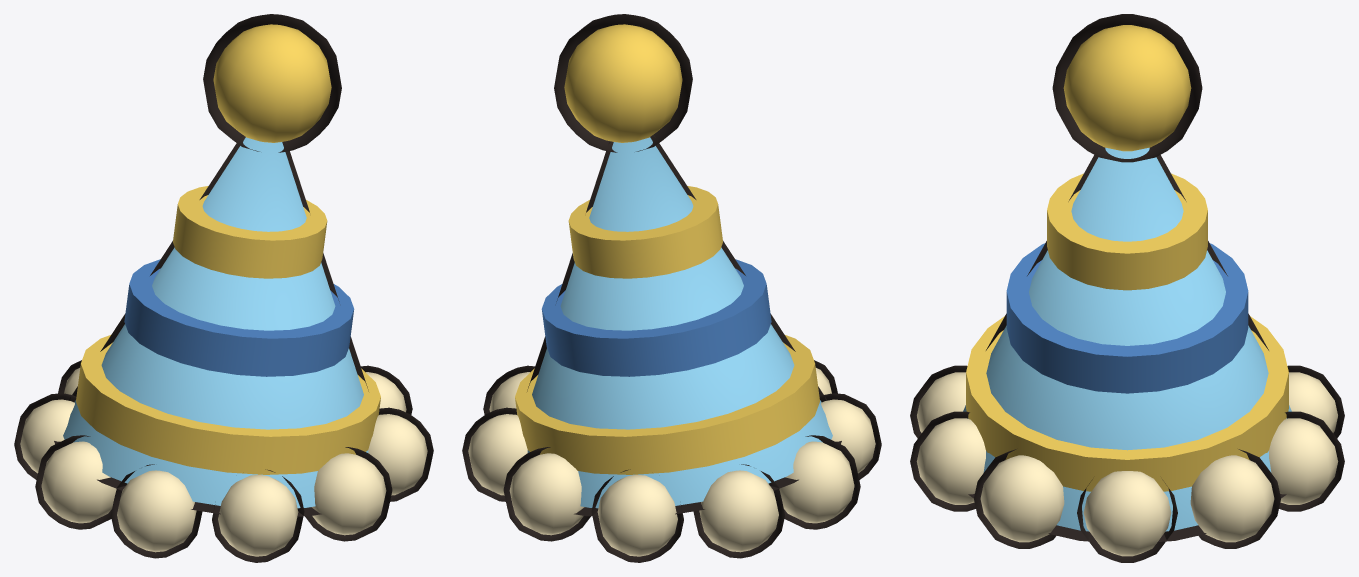
File: hat_party.fbx
3 renders of one model, left to right at view 1: azimuth 30°, elevation 25°; view 2: azimuth 150°, elevation 25°; view 3: azimuth 270°, elevation 25°, orthographic. The views are drawn at different scales.
Visible parts, largest first — view 1: hat_party_C_8FD1F0, hat_party_C_F7D35C, hat_party_C_FFF0C4, hat_party_Outline, hat_party_C_4F86C9; view 2: hat_party_C_8FD1F0, hat_party_C_F7D35C, hat_party_C_FFF0C4, hat_party_Outline, hat_party_C_4F86C9; view 3: hat_party_C_F7D35C, hat_party_C_8FD1F0, hat_party_C_FFF0C4, hat_party_C_4F86C9, hat_party_Outline.
Boxes of the visible parts, x1=… form: hat_party_C_8FD1F0: x1=63, y1=137, x2=368, y2=508; hat_party_C_F7D35C: x1=76, y1=24, x2=380, y2=474; hat_party_C_FFF0C4: x1=20, y1=368, x2=427, y2=556; hat_party_Outline: x1=14, y1=14, x2=433, y2=562; hat_party_C_4F86C9: x1=124, y1=259, x2=354, y2=376; hat_party_C_8FD1F0: x1=527, y1=137, x2=832, y2=508; hat_party_C_F7D35C: x1=515, y1=24, x2=819, y2=474; hat_party_C_FFF0C4: x1=468, y1=368, x2=875, y2=556; hat_party_Outline: x1=462, y1=14, x2=881, y2=562; hat_party_C_4F86C9: x1=541, y1=259, x2=771, y2=376; hat_party_C_F7D35C: x1=966, y1=25, x2=1288, y2=491; hat_party_C_8FD1F0: x1=963, y1=147, x2=1291, y2=531; hat_party_C_FFF0C4: x1=916, y1=372, x2=1338, y2=556; hat_party_C_4F86C9: x1=1006, y1=243, x2=1248, y2=393; hat_party_Outline: x1=910, y1=14, x2=1344, y2=562.
Size of the model in its own units: 0.5606 by 0.6774 by 0.5453.
